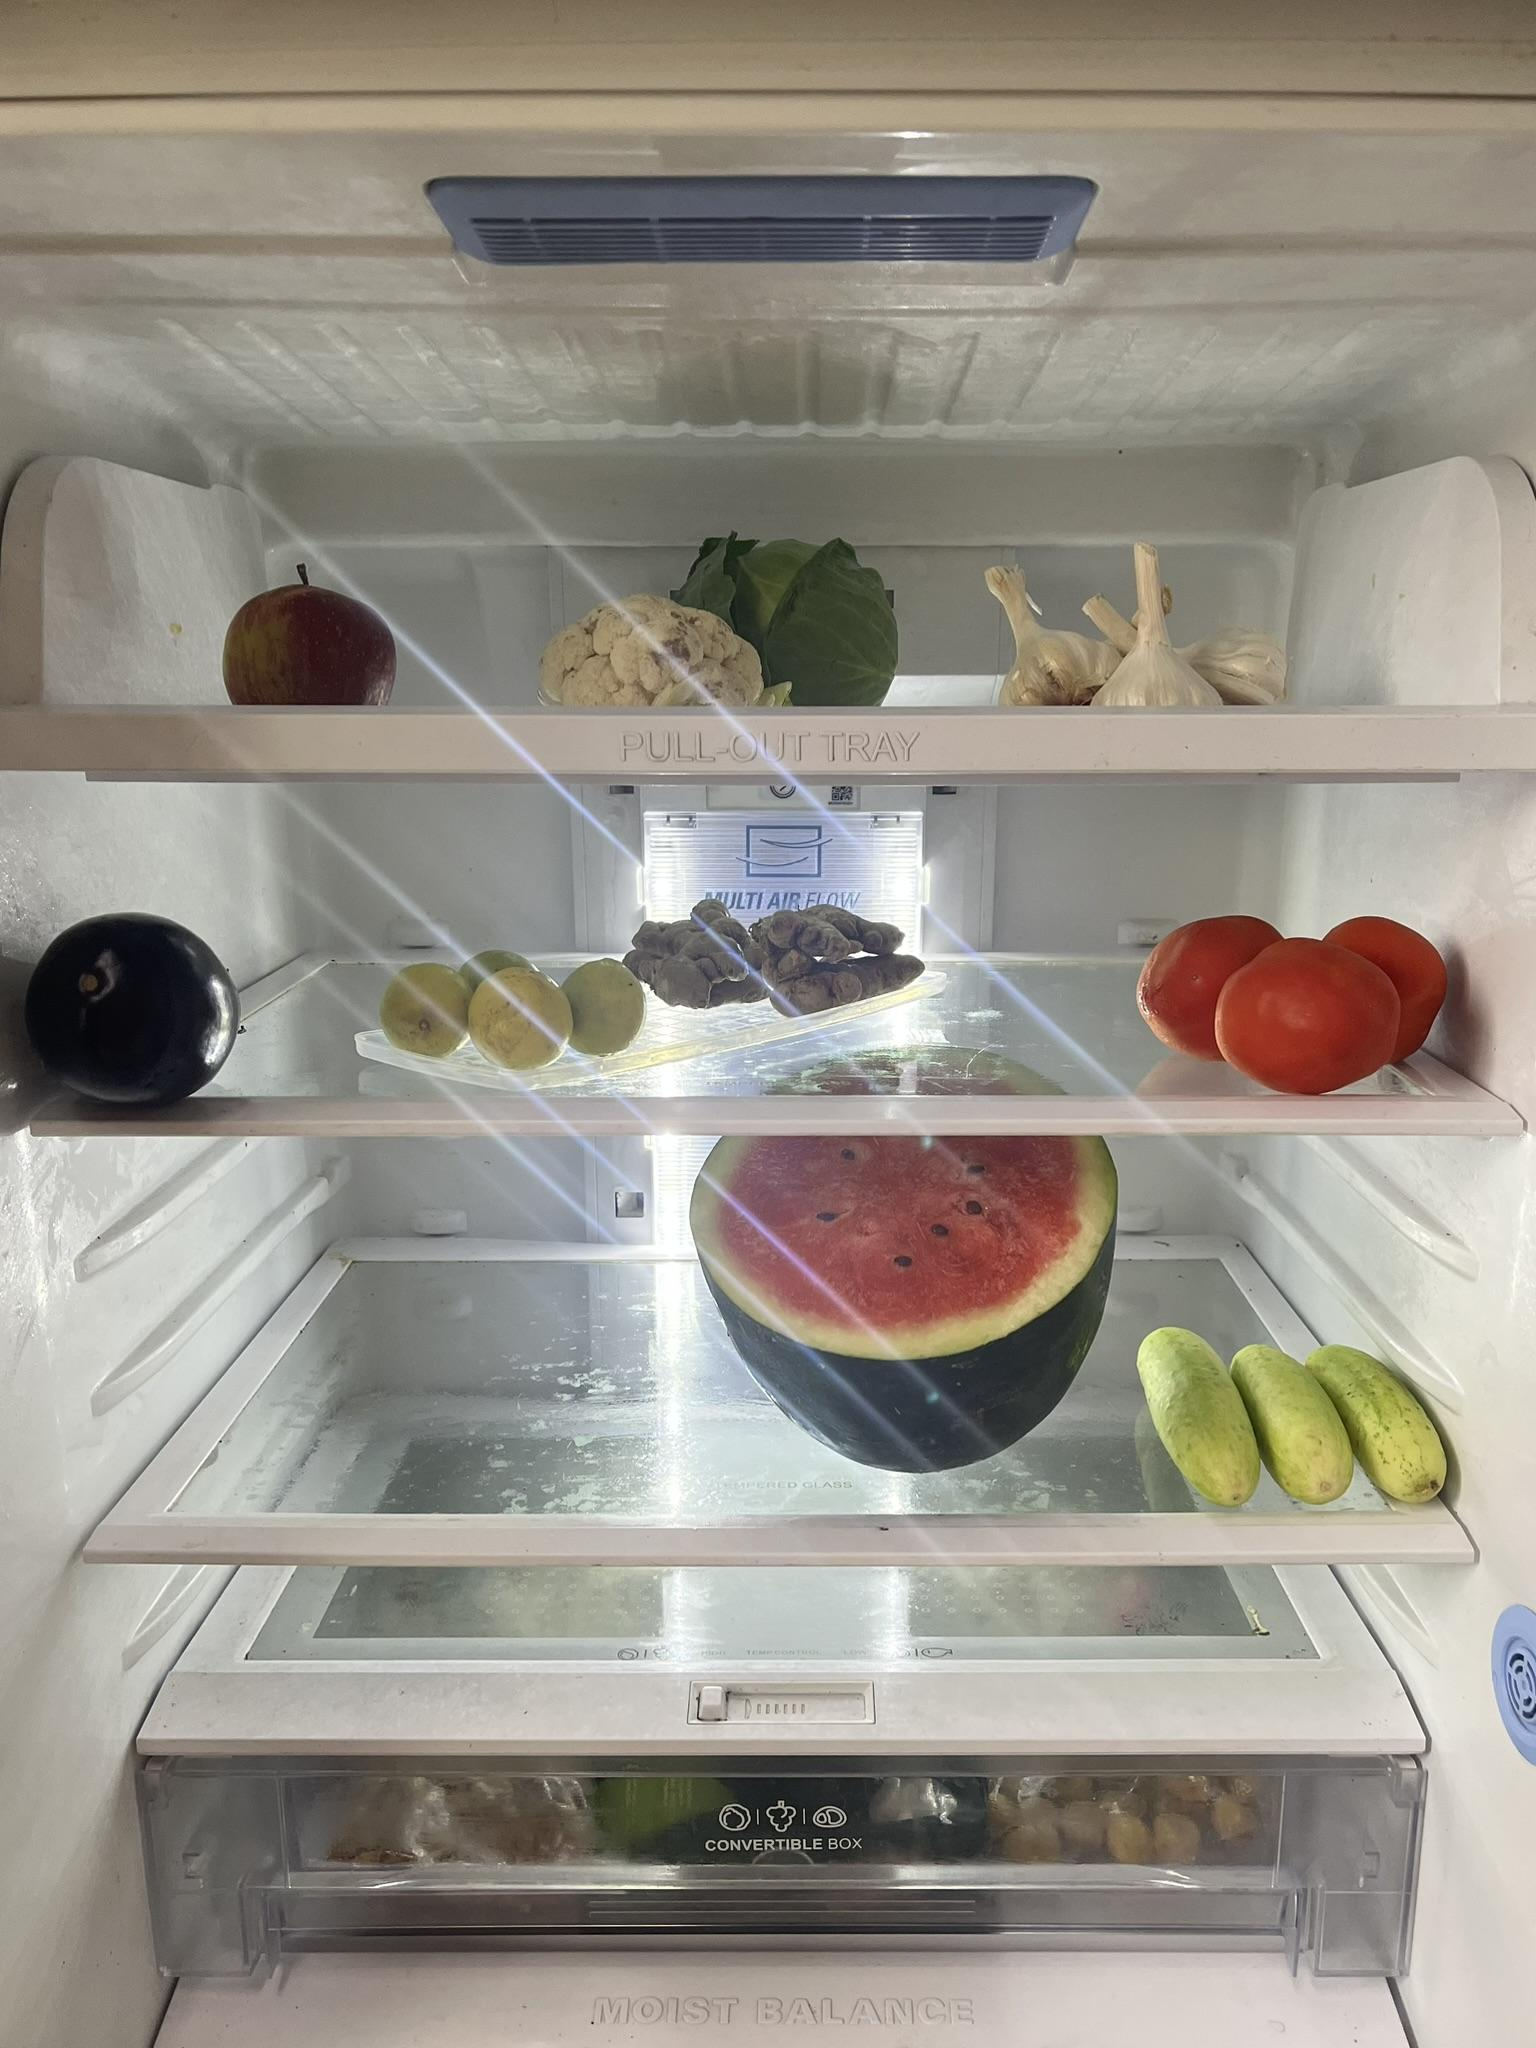apple: (210, 563, 410, 710)
bringal: (19, 903, 247, 1106)
cabbage: (663, 524, 907, 706)
cauliflower: (513, 581, 776, 700)
cucumber: (1129, 1324, 1457, 1506)
garlic: (983, 543, 1294, 713)
ginger: (634, 900, 929, 1024)
lemon: (366, 940, 666, 1066)
tomato: (1123, 913, 1460, 1097)
watermelon: (694, 1050, 1133, 1480)
